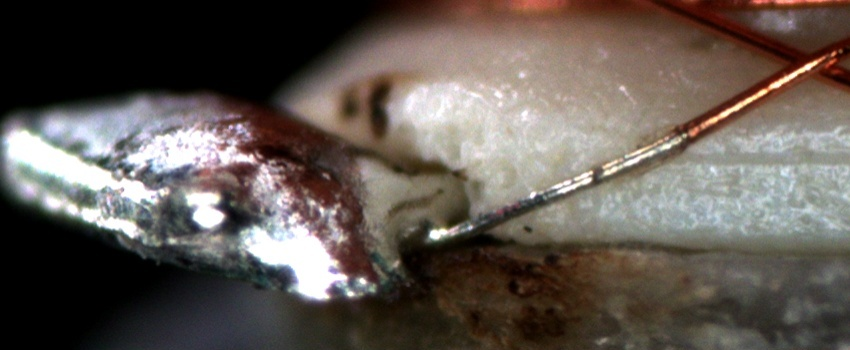CL: (762, 35, 844, 89)
DL: (656, 133, 850, 191)
TS: (420, 131, 685, 245)
